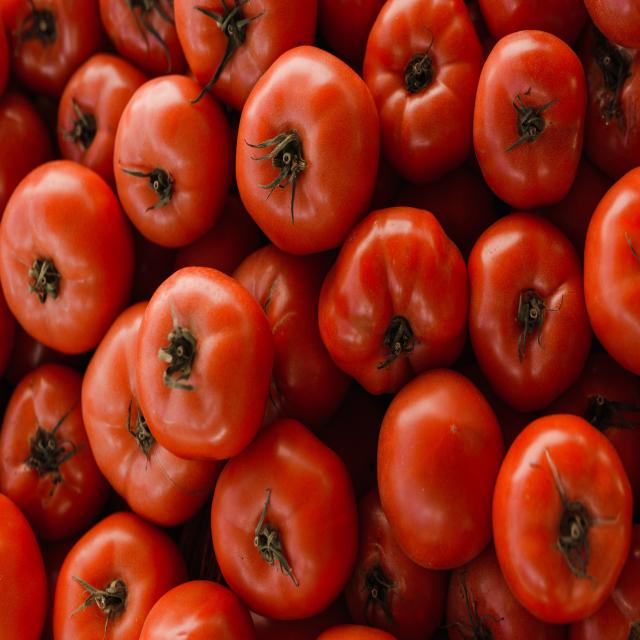Tomato: (312, 196, 466, 408), (491, 410, 634, 624), (193, 430, 346, 626), (232, 74, 382, 234), (136, 277, 269, 444), (475, 200, 582, 393), (474, 33, 592, 200)
